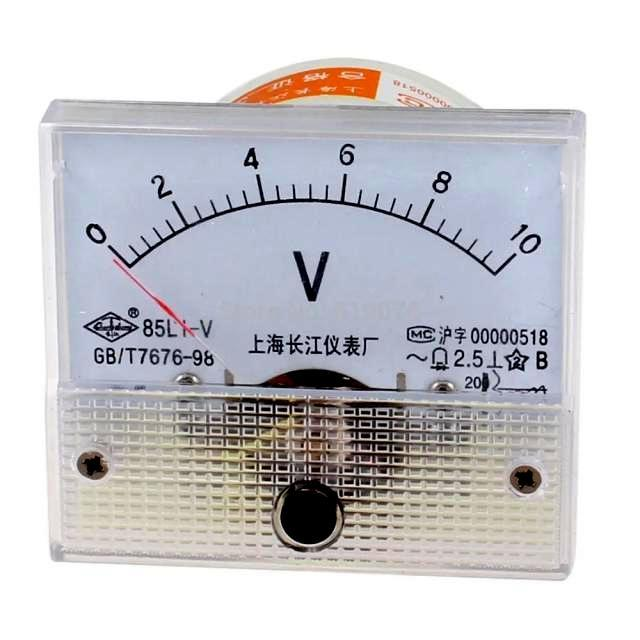Needle_Tip: (107, 253, 155, 300)
Needle_base: (218, 371, 408, 498)
max_value: (499, 207, 549, 275)
min_value: (77, 211, 119, 253)
